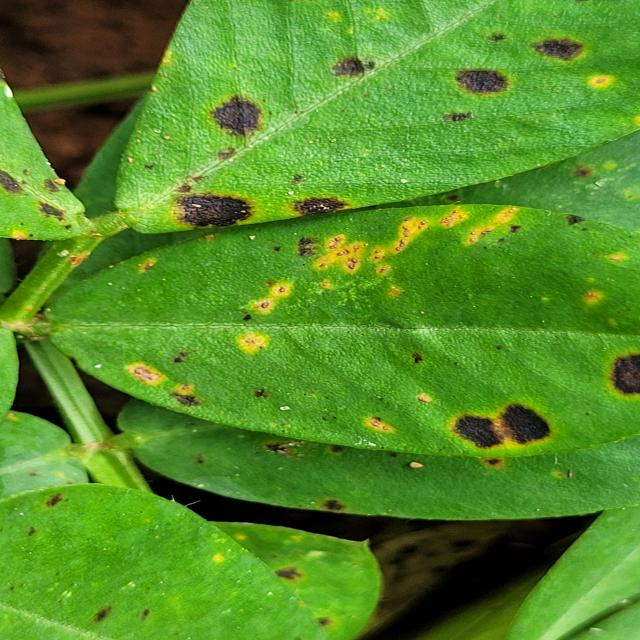Ground nut_tikka leaf spot: (43, 197, 640, 461), (113, 0, 640, 237)
